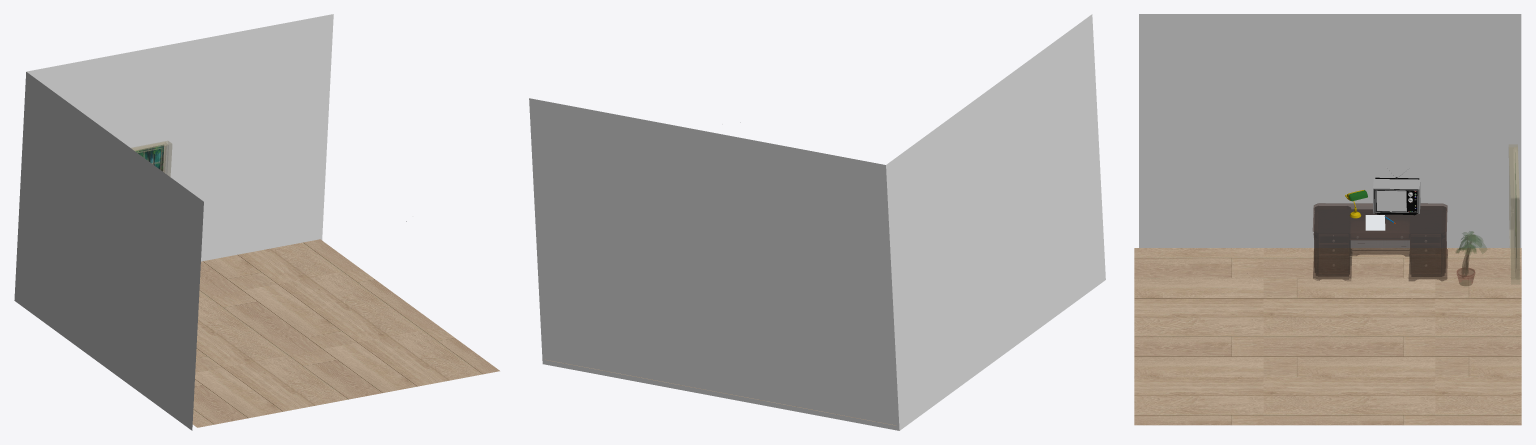
The model's file is salleBombe.glb.
3 views of the same model, side by side, from view 1: azimuth 30°, elevation 25°; view 2: azimuth 150°, elevation 25°; view 3: azimuth 270°, elevation 25° (orthographic). The views are drawn at different scales.
Visible parts, largest first — view 1: Cube, Cube.002, 16696_20_Pane_Casement_Window-Pine_V1.001; view 2: Cube; view 3: Cube, Cube.002, 10240_Office_Desk_v3_max2011, 16696_20_Pane_Casement_Window-Pine_V1.001, Picture.003, eb_house_plant_03, ecranTV.
Boxes of the visible parts, box(x1,y1,x2,y2) form: Cube: box(14, 14, 333, 430); Cube.002: box(192, 239, 499, 427); 16696_20_Pane_Casement_Window-Pine_V1.001: box(131, 141, 171, 176); Cube: box(529, 14, 1105, 430); Cube: box(1139, 14, 1521, 247); Cube.002: box(1134, 248, 1521, 425); 10240_Office_Desk_v3_max2011: box(1313, 203, 1447, 280); 16696_20_Pane_Casement_Window-Pine_V1.001: box(1509, 144, 1520, 284); Picture.003: box(1373, 168, 1420, 215); eb_house_plant_03: box(1456, 231, 1486, 285); ecranTV: box(1376, 191, 1406, 211).
Size of the model in its own units: 2.86 by 2.09 by 2.8.
Materials: 38 (4 with a texture image).
